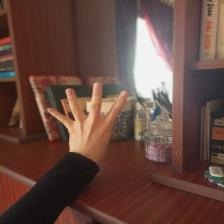four: (40, 76, 136, 163)
